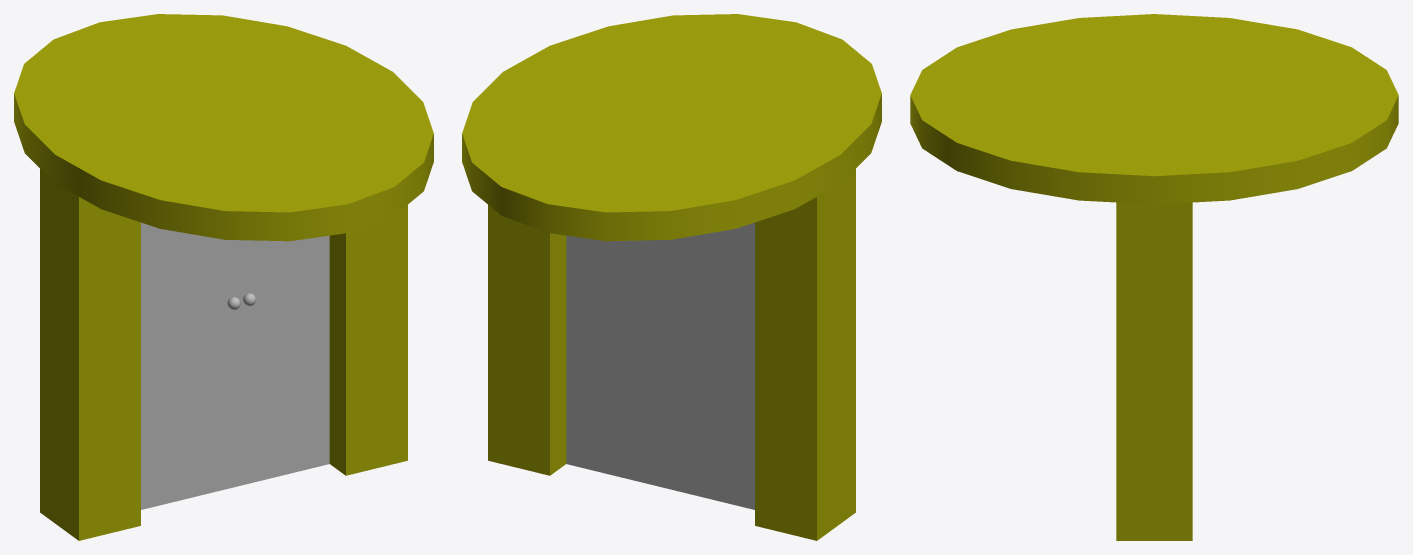
The model's file is Final_Door_002.fbx.
The picture shows the model from 3 angles, left to right: view 1: azimuth 30°, elevation 25°; view 2: azimuth 150°, elevation 25°; view 3: azimuth 270°, elevation 25°; orthographic projection.
Parts seen in each view (by area): view 1: pCylinder1, pCube3, pCube1, pCube2; view 2: pCylinder1, pCube3, pCube1, pCube2; view 3: pCylinder1, pCube2.
Part boxes in pixels (box(x1,y1,x2,y2)): pCylinder1: box(14, 14, 433, 241); pCube3: box(141, 222, 329, 509); pCube1: box(40, 169, 140, 540); pCube2: box(329, 205, 407, 475); pCylinder1: box(462, 14, 881, 241); pCube3: box(566, 222, 754, 509); pCube1: box(755, 169, 855, 540); pCube2: box(488, 205, 566, 475); pCylinder1: box(910, 14, 1398, 204); pCube2: box(1116, 202, 1192, 540).
Size of the model in its own units: 8.39 by 8.85 by 10.67.
